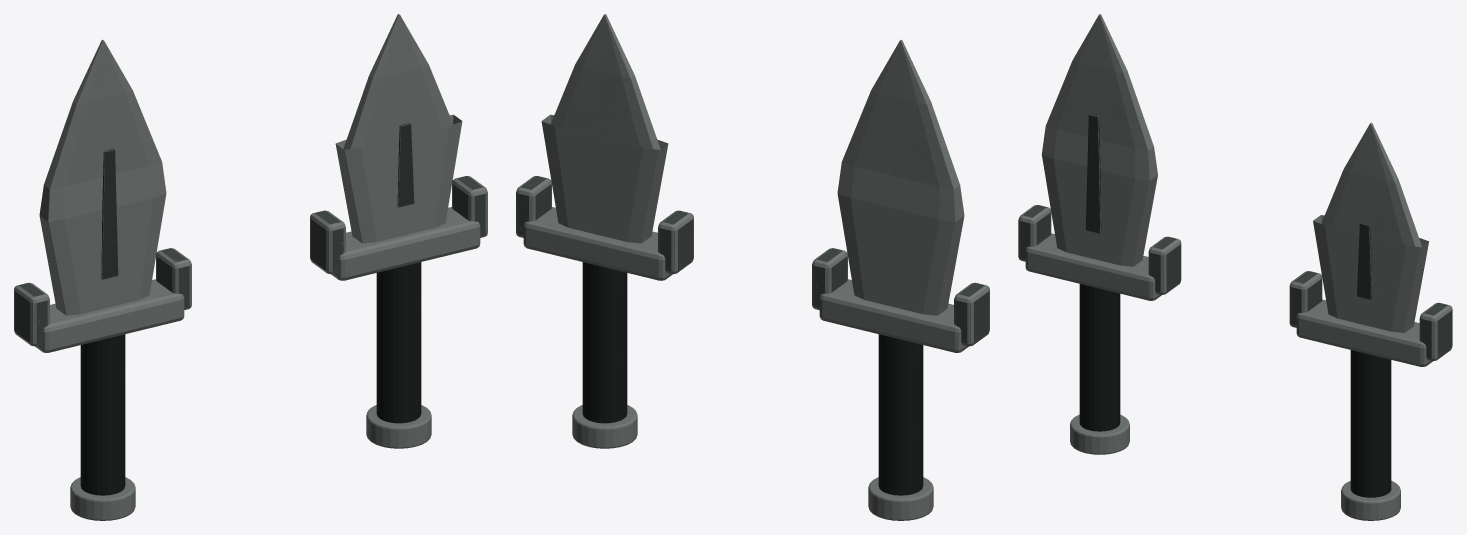
The model's file is dual_blades-t4.glb.
3 renders of one model, left to right at view 1: azimuth 30°, elevation 25°; view 2: azimuth 150°, elevation 25°; view 3: azimuth 330°, elevation 25°, orthographic. The views are drawn at different scales.
Parts seen in each view (by area): view 1: Forged blade, Forged blade.001, Wrapped handle, Wrapped handle.001, Crossguard, Crossguard.001, Central blade fuller, Weighted pommel.001, Weighted pommel, Guard return, Guard return.002, Guard return.003 (+2 smaller); view 2: Forged blade, Forged blade.001, Wrapped handle, Wrapped handle.001, Crossguard, Crossguard.001, Weighted pommel.001, Weighted pommel, Guard return, Guard return.002, Guard return.003, Guard return.001; view 3: Forged blade, Forged blade.001, Wrapped handle.001, Wrapped handle, Crossguard, Crossguard.001, Central blade fuller, Guard return.001, Guard return.003, Weighted pommel, Weighted pommel.001, Guard return.002 (+2 smaller).
Part boxes in pixels (x1,y1,x2,y2): Forged blade: [39, 39, 166, 315]; Forged blade.001: [335, 14, 462, 243]; Wrapped handle: [80, 334, 125, 495]; Wrapped handle.001: [376, 262, 421, 423]; Crossguard: [35, 279, 184, 352]; Crossguard.001: [331, 207, 480, 280]; Central blade fuller: [101, 148, 118, 279]; Weighted pommel.001: [366, 405, 431, 448]; Weighted pommel: [70, 477, 135, 520]; Guard return: [14, 282, 49, 346]; Guard return.002: [310, 210, 345, 274]; Guard return.003: [452, 176, 487, 237]; Forged blade: [837, 39, 964, 315]; Forged blade.001: [541, 14, 668, 243]; Wrapped handle: [878, 334, 923, 495]; Wrapped handle.001: [582, 262, 627, 423]; Crossguard: [819, 279, 968, 352]; Crossguard.001: [523, 207, 672, 280]; Weighted pommel.001: [572, 405, 637, 448]; Weighted pommel: [868, 477, 933, 520]; Guard return: [954, 282, 989, 346]; Guard return.002: [658, 210, 693, 274]; Guard return.003: [516, 176, 551, 237]; Guard return.001: [812, 248, 847, 309]; Forged blade: [1041, 14, 1157, 266]; Forged blade.001: [1313, 122, 1428, 332]; Wrapped handle.001: [1350, 350, 1391, 497]; Wrapped handle: [1079, 284, 1120, 431]; Crossguard: [1025, 233, 1161, 300]; Crossguard.001: [1296, 299, 1432, 366]; Central blade fuller: [1085, 114, 1101, 233]; Guard return.001: [1148, 236, 1181, 294]; Guard return.003: [1419, 302, 1452, 360]; Weighted pommel: [1070, 414, 1129, 454]; Weighted pommel.001: [1341, 480, 1400, 520]; Guard return.002: [1289, 271, 1322, 327].
Size of the model in its own units: 1.55 by 1.51 by 0.192.
Materials: 4 (4 with a texture image).
